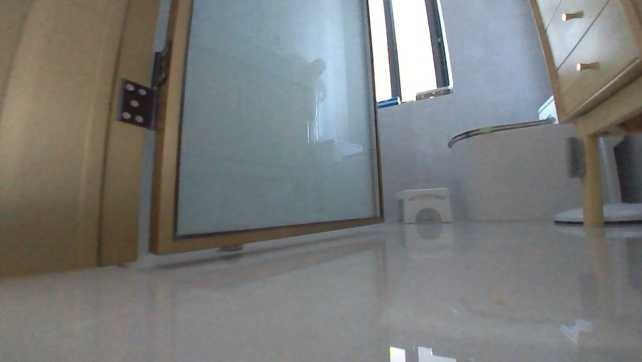door_anno: (143, 1, 389, 255)
plastic_stool: (395, 185, 454, 225)
toilet: (448, 95, 605, 225)
